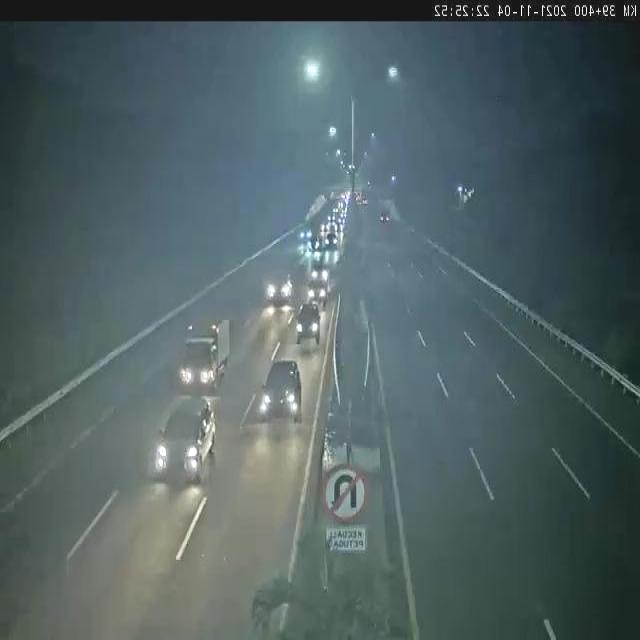Car: (152, 395, 219, 487), (257, 359, 303, 425), (294, 300, 321, 347), (265, 274, 294, 309), (308, 280, 331, 304), (311, 263, 328, 279), (323, 233, 341, 246), (379, 211, 392, 224)
Truck: (177, 317, 231, 396)
